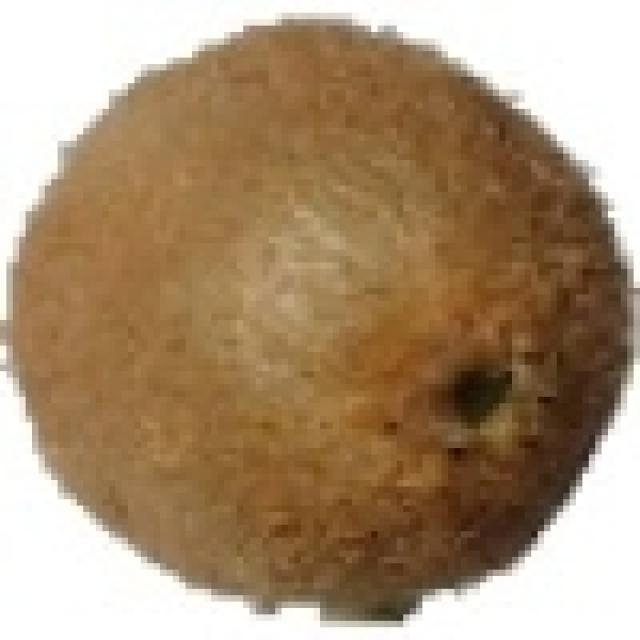kiwi: (12, 18, 620, 614)
